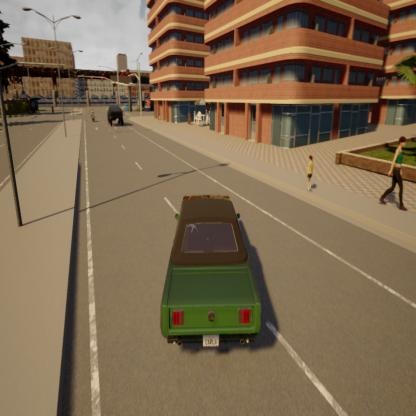Cars: (152, 191, 266, 364), (106, 104, 126, 128)
Pedestrian: (378, 133, 411, 217), (303, 152, 316, 195)
